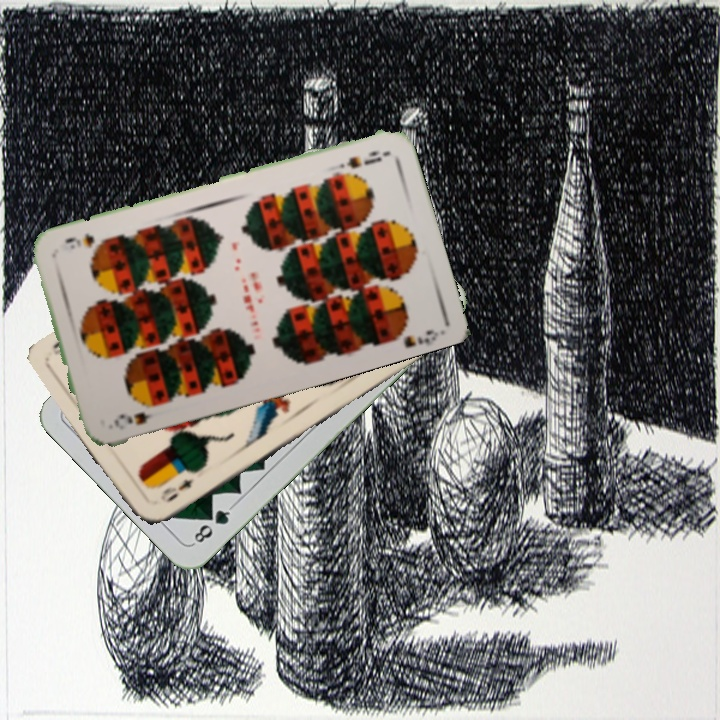EO: (156, 475, 195, 506)
G8: (188, 502, 235, 547)
S9: (331, 146, 390, 171), (109, 408, 156, 433)
